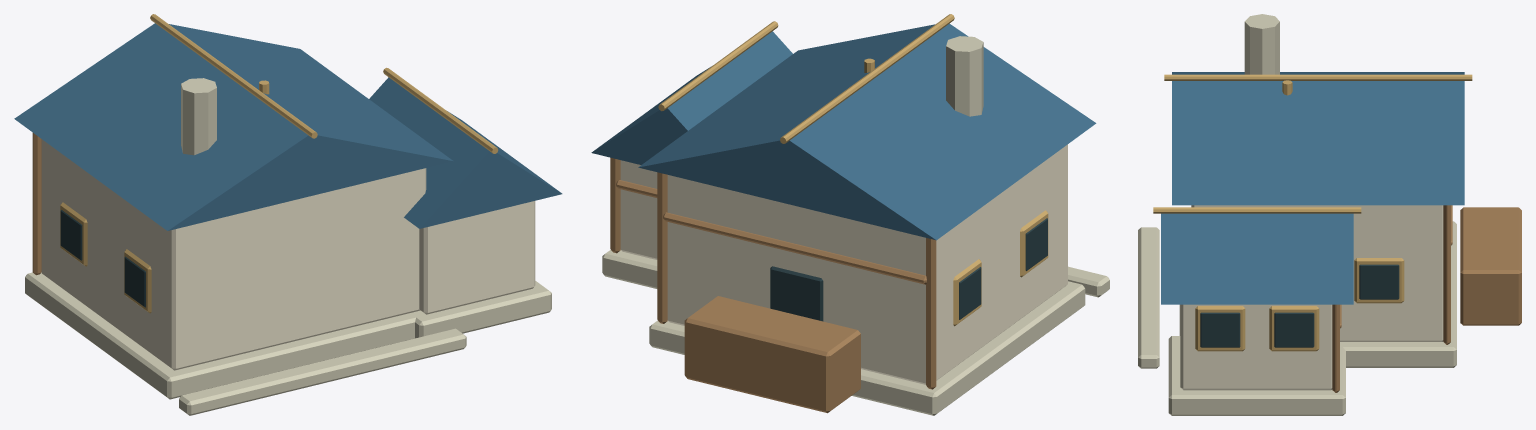
The model's file is level_10.glb.
3 renders of one model, left to right at view 1: azimuth 30°, elevation 25°; view 2: azimuth 150°, elevation 25°; view 3: azimuth 270°, elevation 25°, orthographic. The views are drawn at different scales.
Parts seen in each view (by area): view 1: workshop — level 10; view 2: workshop — level 10; view 3: workshop — level 10.
Part boxes in pixels (bbox=[...]): workshop — level 10: bbox=[14, 14, 562, 415]; workshop — level 10: bbox=[591, 14, 1109, 415]; workshop — level 10: bbox=[1138, 14, 1521, 415].
Size of the model in its own units: 5.57 by 3.63 by 4.98.
